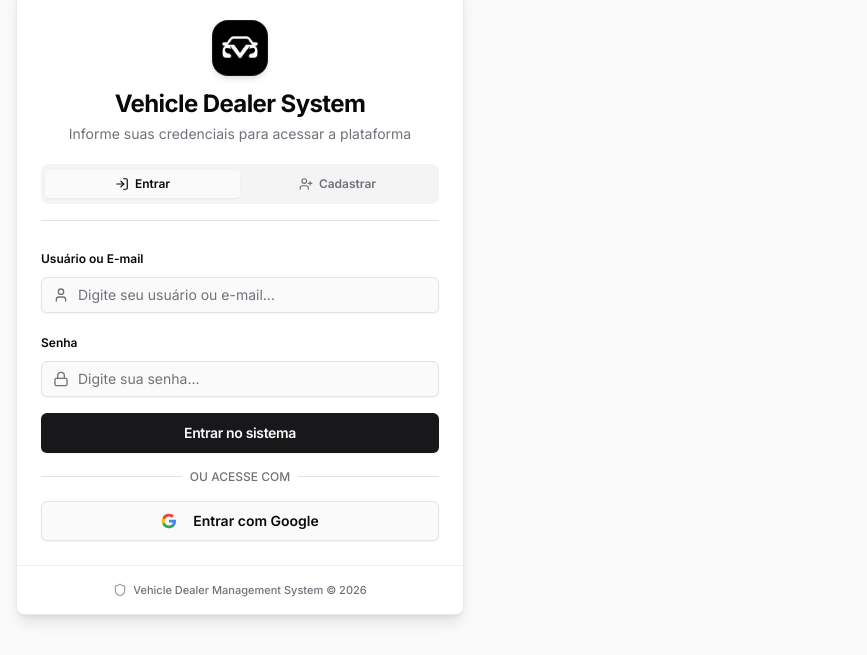
it: LoginPage › should render Continuar com Google button when switching to registration tab
Click the tab "Cadastrar" at coordinates (338, 184), box [240,170,435,198]
(page scrolled)
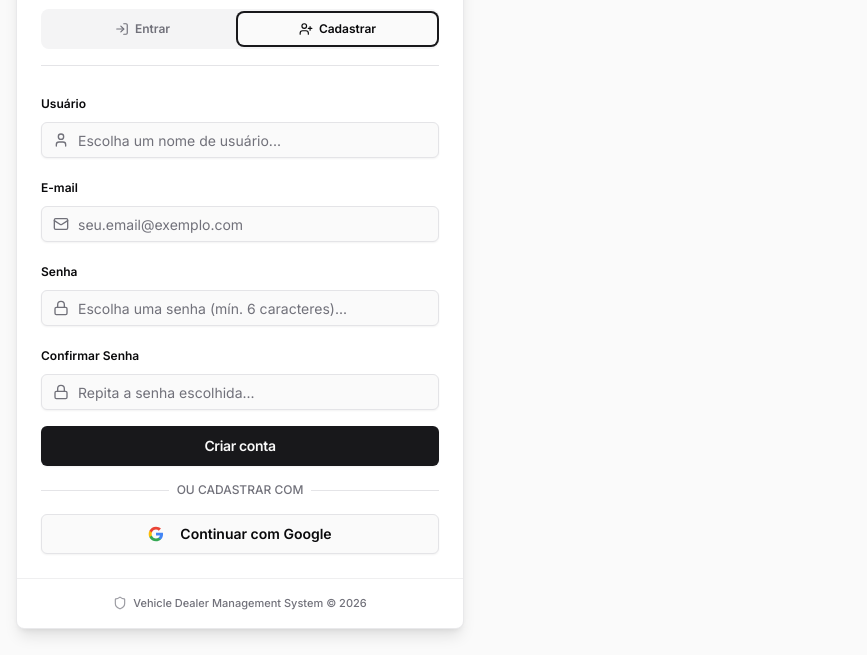
expect the button "Continuar com Google" is shown: met, box [41,514,439,554]
